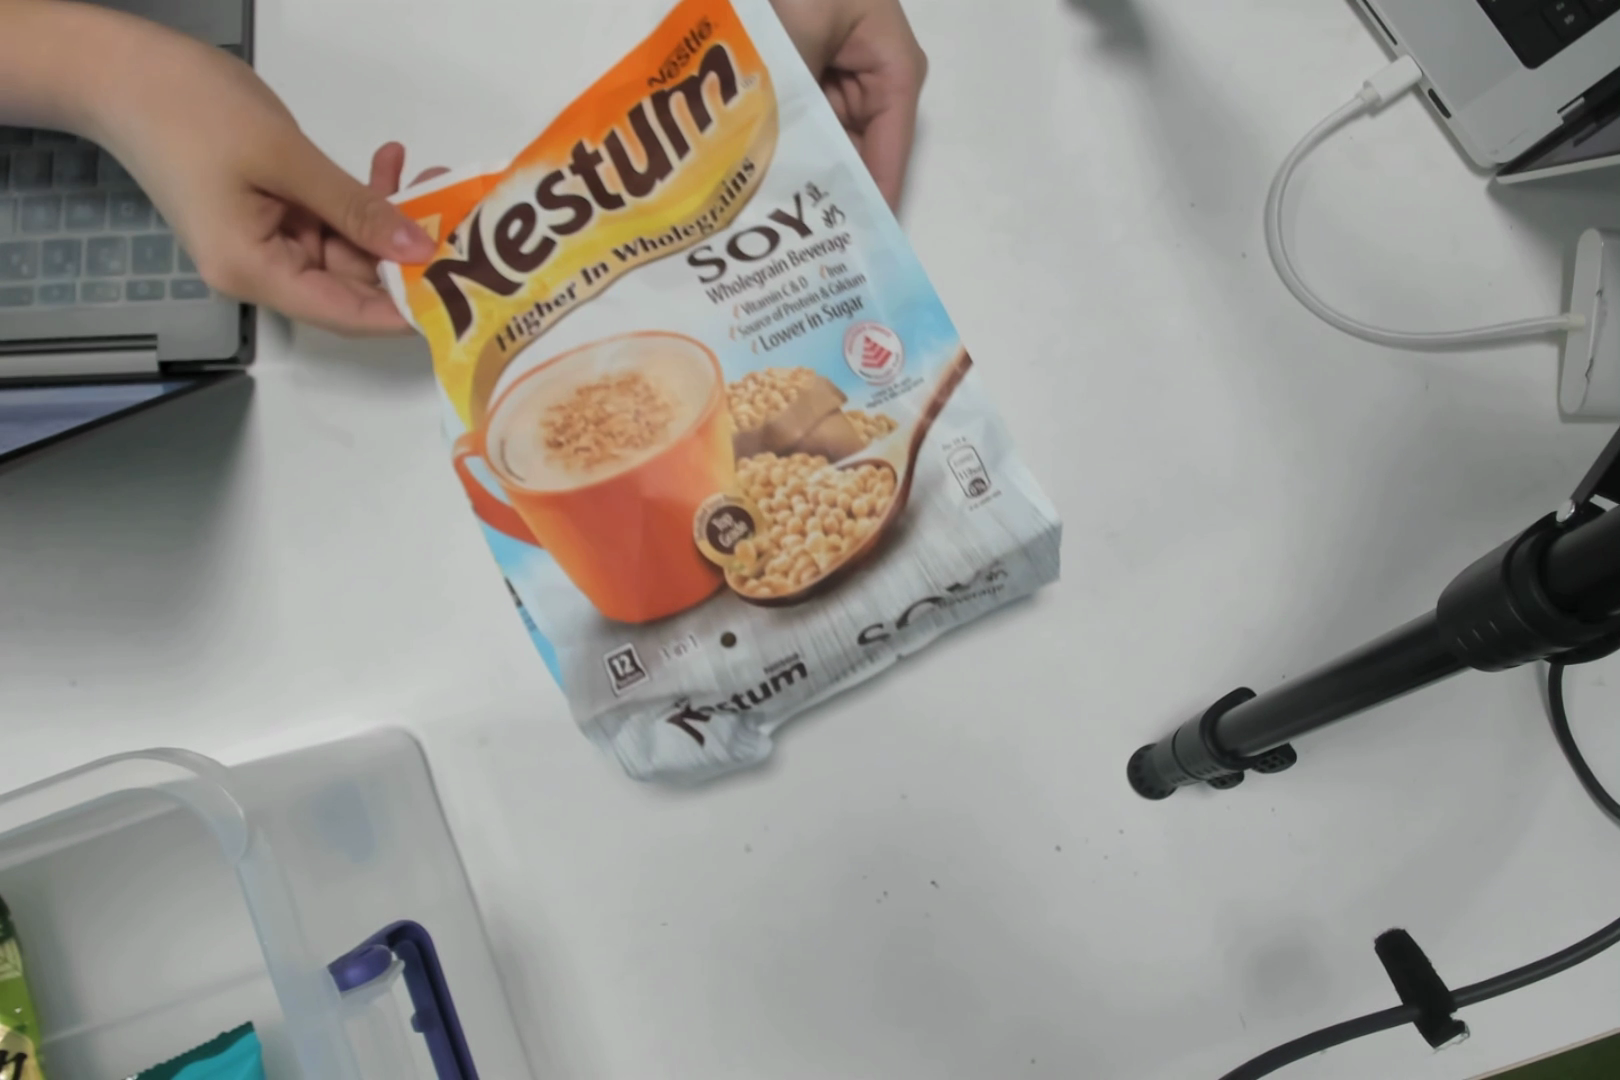e: (430, 19, 941, 740)
